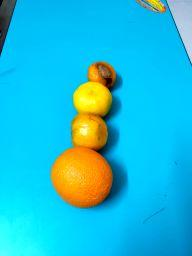orange: (51, 145, 114, 209), (70, 112, 109, 151), (72, 81, 113, 116), (87, 61, 117, 87)
